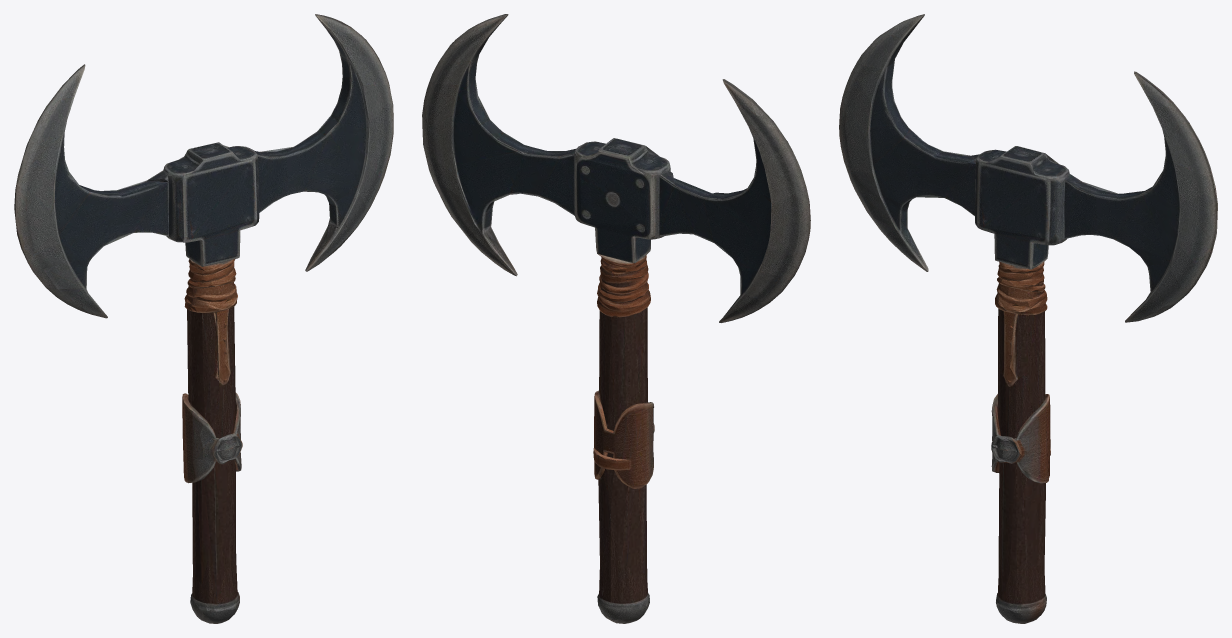
File: itm_ironjaw_axe_R_CONCEPTO_.glb
3 renders of one model, left to right at view 1: azimuth 30°, elevation 25°; view 2: azimuth 150°, elevation 25°; view 3: azimuth 330°, elevation 25°, orthographic. The views are drawn at different scales.
Parts seen in each view (by area): view 1: itm_ironjaw_axe_R; view 2: itm_ironjaw_axe_R; view 3: itm_ironjaw_axe_R.
Boxes of the visible parts, left/top/right/bottom form: itm_ironjaw_axe_R: left=14, top=14, right=393, bottom=623; itm_ironjaw_axe_R: left=422, top=14, right=810, bottom=623; itm_ironjaw_axe_R: left=839, top=14, right=1217, bottom=623.
Bounding box in the file's own units: 0.4493 × 0.65 × 0.0711.
Materials: 1 (1 with a texture image).
